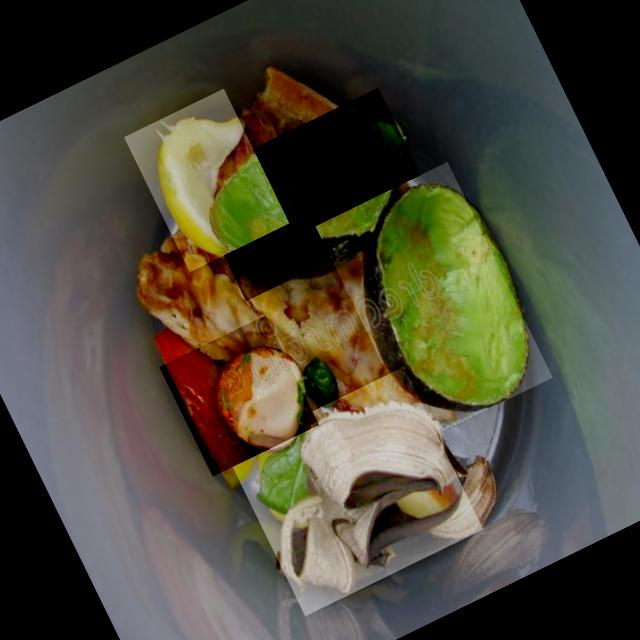Food waste: (316, 161, 552, 441), (226, 366, 483, 616), (188, 87, 436, 300), (123, 88, 290, 272), (159, 315, 319, 476)
